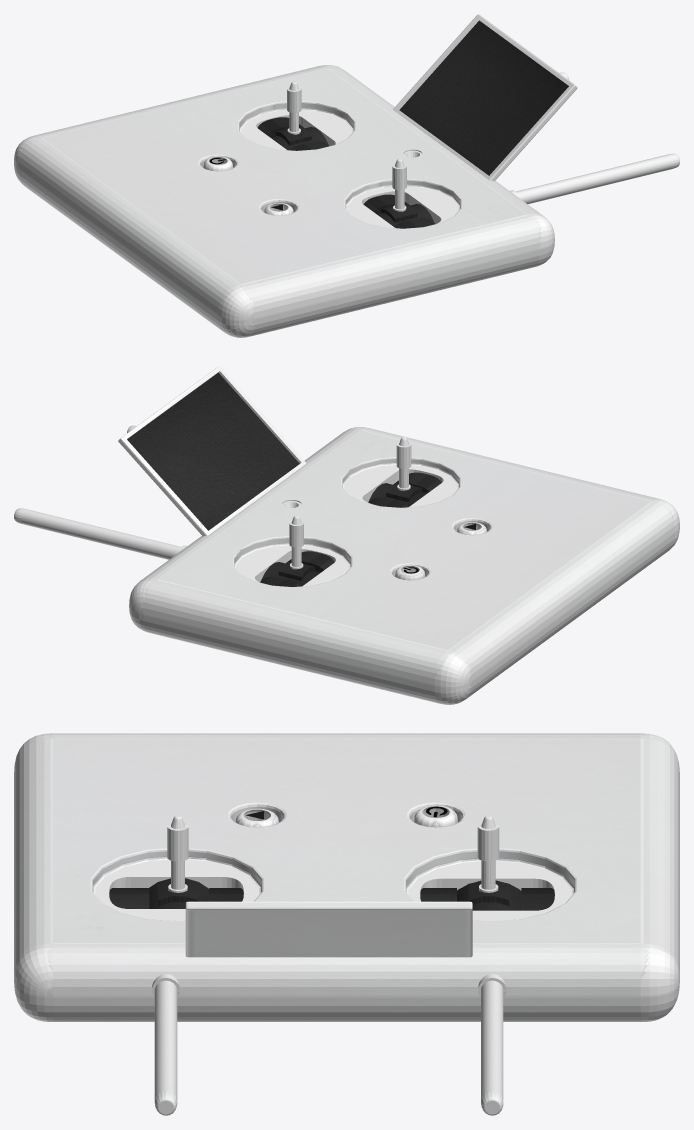
The picture shows the model from 3 angles, top to bottom: view 1: azimuth 30°, elevation 25°; view 2: azimuth 150°, elevation 25°; view 3: azimuth 270°, elevation 25°; orthographic projection. The views are drawn at different scales.
Parts seen in each view (by area): view 1: Box001, Box006, Cylinder006, Cylinder001, Box005, Cylinder004, Box004, Cylinder005, Cylinder003; view 2: Box001, Box006, Cylinder007, Cylinder001, Box004, Cylinder004, Box005, Cylinder005, Cylinder003; view 3: Box001, Box006, Cylinder006, Cylinder007, Cylinder001, Cylinder003, Cylinder005, Cylinder004, Box005, Box004.
Boxes of the visible parts, x1,y1,x2,y2 form: Box001: [14, 65, 554, 337]; Box006: [393, 14, 577, 181]; Cylinder006: [510, 153, 679, 204]; Cylinder001: [270, 126, 328, 150]; Box005: [363, 194, 435, 228]; Cylinder004: [376, 203, 434, 226]; Box004: [257, 117, 328, 150]; Cylinder005: [392, 158, 406, 211]; Cylinder003: [287, 81, 301, 134]; Box001: [129, 427, 679, 704]; Box006: [118, 366, 306, 536]; Cylinder007: [14, 508, 186, 559]; Cylinder001: [261, 561, 320, 586]; Box004: [260, 551, 334, 586]; Cylinder004: [368, 482, 427, 506]; Box005: [368, 472, 441, 507]; Cylinder005: [396, 437, 411, 490]; Cylinder003: [289, 515, 303, 569]; Box001: [14, 733, 679, 1021]; Box006: [185, 901, 472, 957]; Cylinder006: [152, 974, 179, 1115]; Cylinder007: [478, 974, 506, 1115]; Cylinder001: [457, 880, 521, 910]; Cylinder003: [477, 815, 499, 892]; Cylinder005: [167, 815, 188, 892]; Cylinder004: [149, 878, 209, 908]; Box005: [109, 888, 243, 908]; Box004: [420, 888, 554, 910].
Size of the model in its own units: 63.22 by 15.06 by 49.8.
4 materials, 4 textured.
